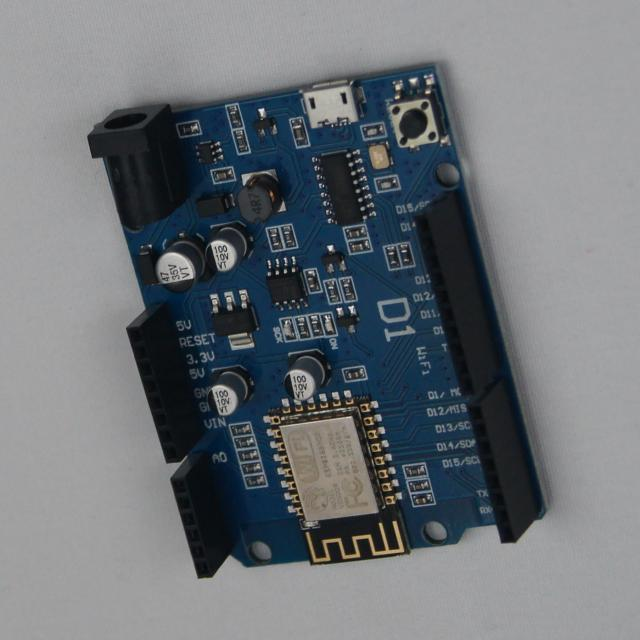Arduino Uno WiFi Shield: (89, 64, 545, 579)
